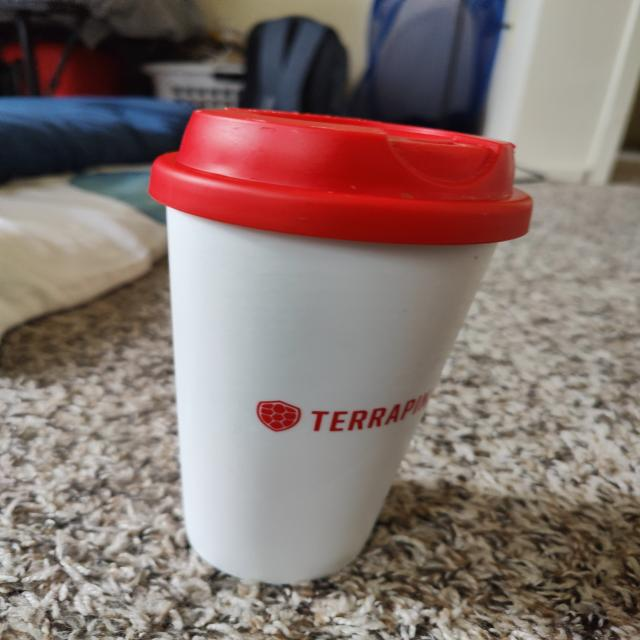mug: (147, 101, 534, 587)
